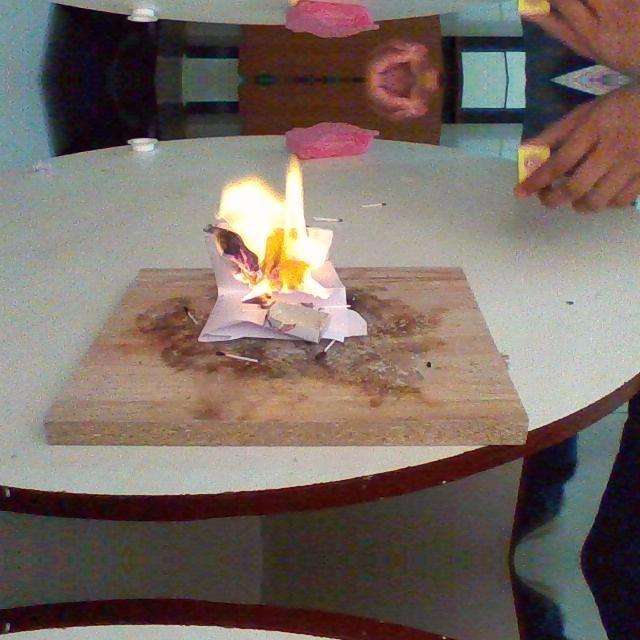smoke: (215, 153, 325, 301)
